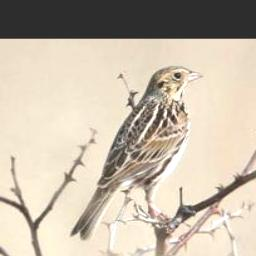Sparrow: (65, 61, 207, 246)
